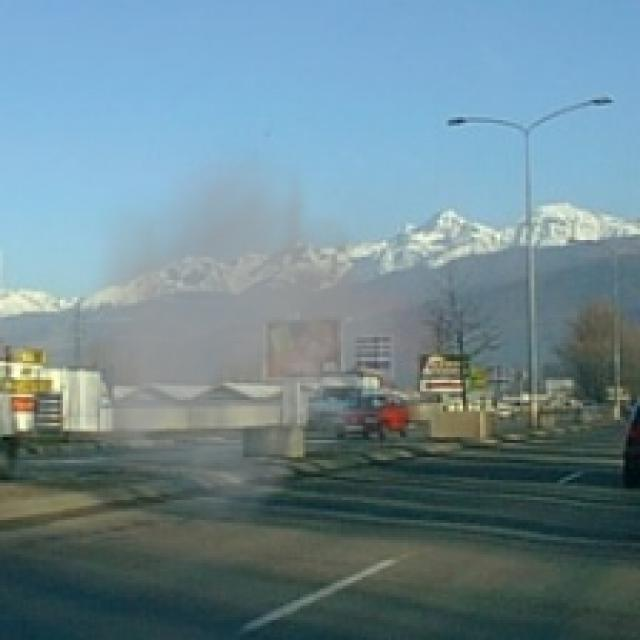Smoke: (68, 134, 443, 546)
